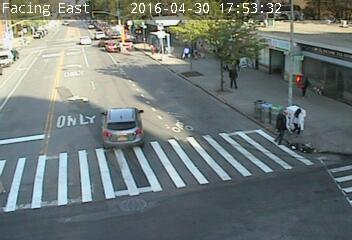neg: (114, 119, 142, 157), (222, 100, 250, 137), (273, 68, 293, 95), (240, 47, 260, 73), (156, 32, 171, 52), (70, 32, 84, 51), (115, 39, 127, 55), (138, 39, 150, 55)
pos: (269, 108, 297, 145), (291, 107, 311, 135), (223, 64, 242, 89), (180, 46, 192, 61)
